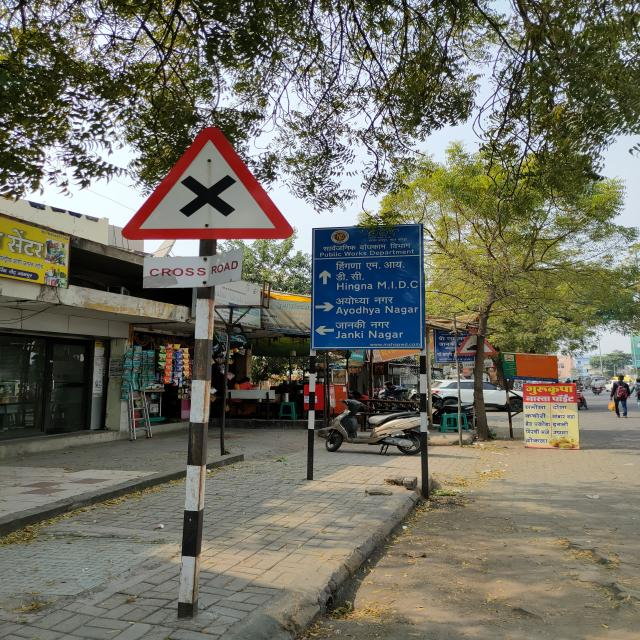cross_road: (121, 126, 297, 245)
